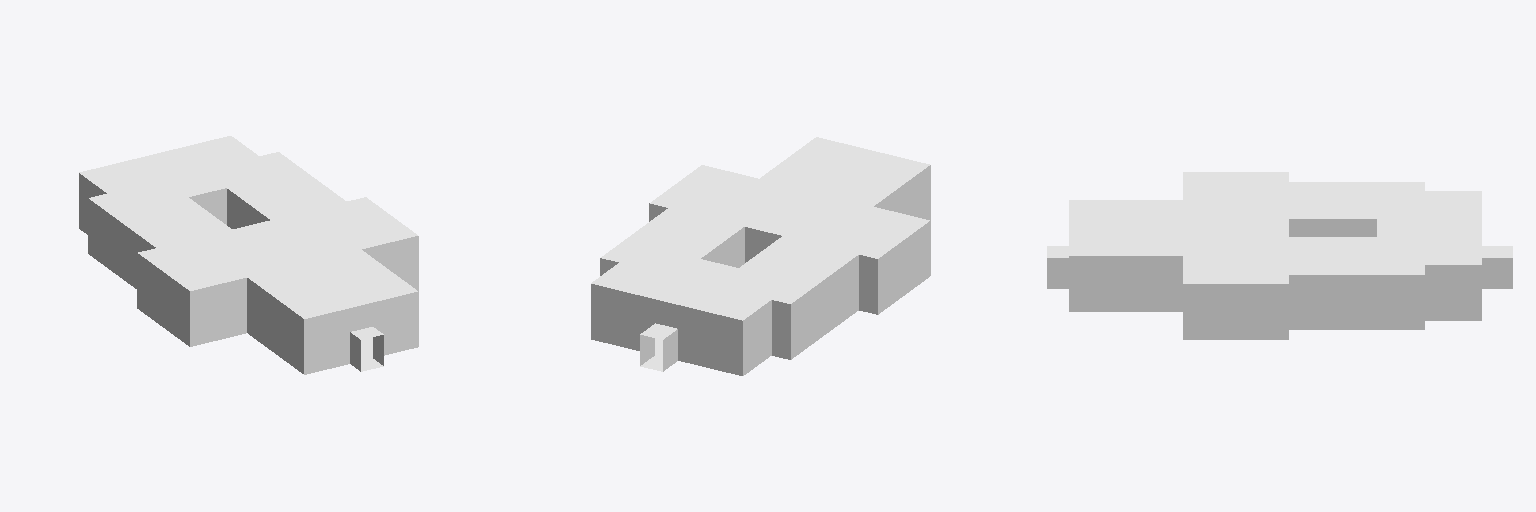
Rendered from room_base8.obj.
The picture shows the model from 3 angles: view 1: azimuth 30°, elevation 25°; view 2: azimuth 150°, elevation 25°; view 3: azimuth 270°, elevation 25°; orthographic projection.
Visible parts, largest first — view 1: room_base8; view 2: room_base8; view 3: room_base8.
Part boxes in pixels (x1,y1,x2,y2): room_base8: (79, 136, 418, 374); room_base8: (591, 137, 930, 375); room_base8: (1047, 172, 1512, 339).
Bounding box in the file's own units: 30 × 7 × 53.